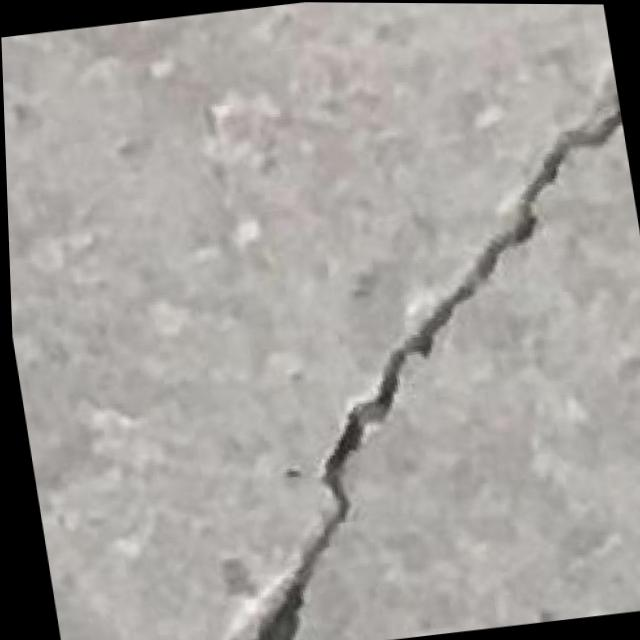Crack: (125, 76, 640, 640)
